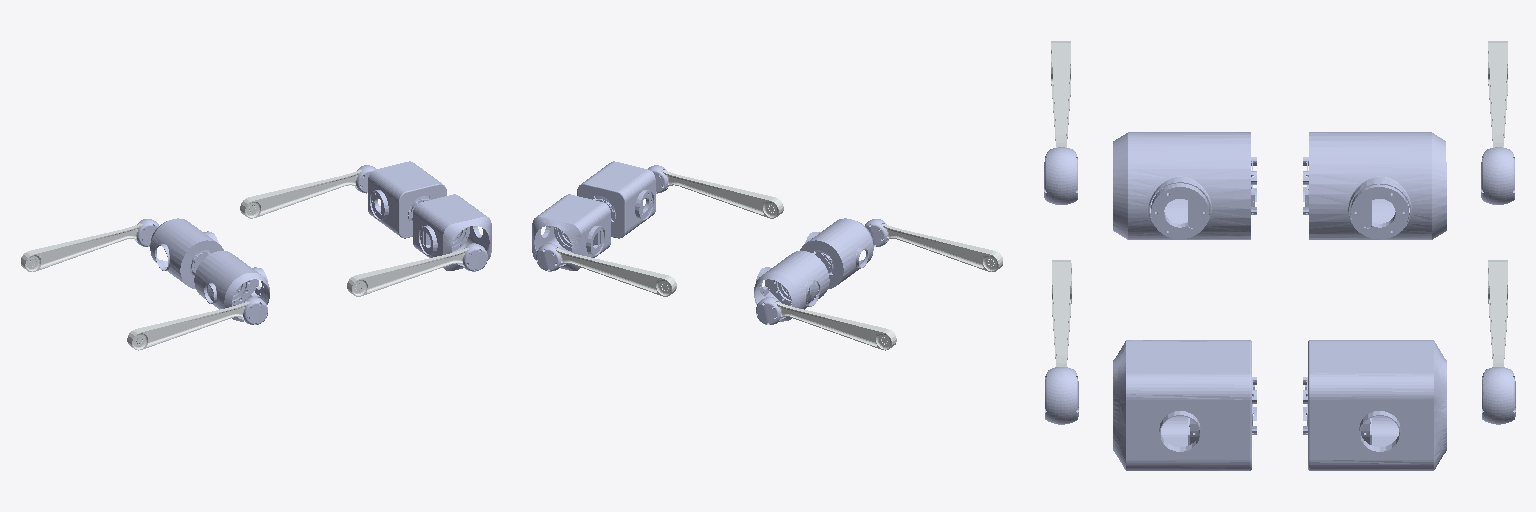
URDF robot description (stoch3):
<?xml version="1.0" encoding="utf-8"?>
<!-- This URDF was automatically created by SolidWorks to URDF Exporter! Originally created by [author] ([email redacted]) 
     Commit Version: 1.5.1-0-g916b5db  Build Version: 1.5.7152.31018
     For more information, please see http://wiki.ros.org/sw_urdf_exporter -->
<robot
  name="stoch3">
  <link
    name="base_link">
    <inertial>
      <origin
        xyz="-0.10238 -1.8464E-05 0.0026538"
        rpy="0 0 0" />
      <mass
        value="7.302" />
      <inertia
        ixx="0.0090197"
        ixy="2.2679E-06"
        ixz="6.4897E-05"
        iyy="0.0094033"
        iyz="-2.1628E-08"
        izz="0.01573" />
    </inertial>
    <visual>
      <origin
        xyz="0 0 0"
        rpy="0 0 0" />
      <geometry>
        <mesh
          filename="package://stoch3/meshes/base_link.STL" />
      </geometry>
      <material
        name="">
        <color
          rgba="0.75294 0.75294 0.75294 1" />
      </material>
    </visual>
    <collision>
      <origin
        xyz="0 0 0"
        rpy="0 0 0" />
      <geometry>
        <mesh
          filename="package://stoch3/meshes/base_link.STL" />
      </geometry>
    </collision>
  </link>
  <link
    name="fl_abd_link">
    <inertial>
      <origin
        xyz="-0.036118 -2.6003E-07 0.070269"
        rpy="0 0 0" />
      <mass
        value="0.978" />
      <inertia
        ixx="0.00059328"
        ixy="5.8815E-09"
        ixz="-6.723E-07"
        iyy="0.00046214"
        iyz="3.3247E-08"
        izz="0.00045941" />
    </inertial>
    <visual>
      <origin
        xyz="0 0 0"
        rpy="0 0 0" />
      <geometry>
        <mesh
          filename="package://stoch3/meshes/fl_abd_link.STL" />
      </geometry>
      <material
        name="">
        <color
          rgba="0.79216 0.81961 0.93333 1" />
      </material>
    </visual>
    <collision>
      <origin
        xyz="0 0 0"
        rpy="0 0 0" />
      <geometry>
        <mesh
          filename="package://stoch3/meshes/fl_abd_link.STL" />
      </geometry>
    </collision>
  </link>
  <joint
    name="fl_abd_joint"
    type="revolute">
    <origin
      xyz="0.18598 0.10004 -0.0005"
      rpy="1.5708 0 1.571" />
    <parent
      link="base_link" />
    <child
      link="fl_abd_link" />
    <axis
      xyz="0 0 -1" />
    <limit
      lower="-3.5708"
      upper="3.5708"
      effort="100"
      velocity="100" />
  </joint>
  <link
    name="fl_upper_leg_link">
    <inertial>
      <origin
        xyz="0.072527 1.3632E-05 0.076425"
        rpy="0 0 0" />
      <mass
        value="1.547" />
      <inertia
        ixx="0.00031538"
        ixy="4.8938E-07"
        ixz="4.0486E-06"
        iyy="0.0028703"
        iyz="6.4786E-11"
        izz="0.0031011" />
    </inertial>
    <visual>
      <origin
        xyz="0 0 0"
        rpy="0 0 0" />
      <geometry>
        <mesh
          filename="package://stoch3/meshes/fl_upper_leg_link.STL" />
      </geometry>
      <material
        name="">
        <color
          rgba="0.79216 0.81961 0.93333 1" />
      </material>
    </visual>
    <collision>
      <origin
        xyz="0 0 0"
        rpy="0 0 0" />
      <geometry>
        <mesh
          filename="package://stoch3/meshes/fl_upper_leg_link.STL" />
      </geometry>
    </collision>
  </link>
  <joint
    name="fl_hip_joint"
    type="revolute">
    <origin
      xyz="-0.01975 0 0.074"
      rpy="0 1.5708 0" />
    <parent
      link="fl_abd_link" />
    <child
      link="fl_upper_leg_link" />
    <axis
      xyz="0 0 -1" />
    <limit
      lower="-1.5708"
      upper="6.2832"
      effort="100"
      velocity="100" />
  </joint>
  <link
    name="fl_lower_leg_link">
    <inertial>
      <origin
        xyz="0.086252 -0.0035444 5.8283E-07"
        rpy="0 0 0" />
      <mass
        value="0.18" />
      <inertia
        ixx="2.0675E-05"
        ixy="3.9572E-05"
        ixz="-2.4321E-09"
        iyy="0.0010716"
        iyz="8.8848E-10"
        izz="0.0010886" />
    </inertial>
    <visual>
      <origin
        xyz="0 0 0"
        rpy="0 0 0" />
      <geometry>
        <mesh
          filename="package://stoch3/meshes/fl_lower_leg_link.STL" />
      </geometry>
      <material
        name="">
        <color
          rgba="0.89804 0.91765 0.92941 1" />
      </material>
    </visual>
    <collision>
      <origin
        xyz="0 0 0"
        rpy="0 0 0" />
      <geometry>
        <mesh
          filename="package://stoch3/meshes/fl_lower_leg_link.STL" />
      </geometry>
    </collision>
  </link>
  <joint
    name="fl_knee_joint"
    type="revolute">
    <origin
      xyz="0.297 0 0.1385"
      rpy="0 0 3.1416" />
    <parent
      link="fl_upper_leg_link" />
    <child
      link="fl_lower_leg_link" />
    <axis
      xyz="0 0 1" />
    <limit
      lower="-6.28"
      upper="6.28"
      effort="100"
      velocity="100" />
  </joint>
  <link
    name="fl_foot_link">
    <inertial>
      <origin
        xyz="0.0031638 -3.2732E-12 -0.00086153"
        rpy="0 0 0" />
      <mass
        value="0.02" />
      <inertia
        ixx="1.2618E-05"
        ixy="-3.347E-13"
        ixz="-5.684E-07"
        iyy="2.1257E-05"
        iyz="-1.222E-12"
        izz="1.0686E-05" />
    </inertial>
    <visual>
      <origin
        xyz="0 0 0"
        rpy="0 0 0" />
      <geometry>
        <mesh
          filename="package://stoch3/meshes/fl_foot_link.STL" />
      </geometry>
      <material
        name="">
        <color
          rgba="0.79216 0.81961 0.93333 1" />
      </material>
    </visual>
    <collision>
      <origin
        xyz="0 0 0"
        rpy="0 0 0" />
      <geometry>
        <mesh
          filename="package://stoch3/meshes/fl_foot_link.STL" />
      </geometry>
    </collision>
  </link>
  <joint
    name="fl_ankel_joint"
    type="fixed">
    <origin
      xyz="0.27479 -0.00065295 0"
      rpy="1.5708 0 0" />
    <parent
      link="fl_lower_leg_link" />
    <child
      link="fl_foot_link" />
    <axis
      xyz="0 0 0" />
  </joint>
  <link
    name="fr_abd_link">
    <inertial>
      <origin
        xyz="0.07027 0.036118 -2.9553E-07"
        rpy="0 0 0" />
      <mass
        value="0.978" />
      <inertia
        ixx="0.00045941"
        ixy="6.965E-07"
        ixz="-3.3418E-08"
        iyy="0.00059328"
        iyz="-5.8767E-09"
        izz="0.00046214" />
    </inertial>
    <visual>
      <origin
        xyz="0 0 0"
        rpy="0 0 0" />
      <geometry>
        <mesh
          filename="package://stoch3/meshes/fr_abd_link.STL" />
      </geometry>
      <material
        name="">
        <color
          rgba="0.79216 0.81961 0.93333 1" />
      </material>
    </visual>
    <collision>
      <origin
        xyz="0 0 0"
        rpy="0 0 0" />
      <geometry>
        <mesh
          filename="package://stoch3/meshes/fr_abd_link.STL" />
      </geometry>
    </collision>
  </link>
  <joint
    name="fr_abd_joint"
    type="revolute">
    <origin
      xyz="0.18602 -0.099961 -0.0005"
      rpy="0 0 0.00021134" />
    <parent
      link="base_link" />
    <child
      link="fr_abd_link" />
    <axis
      xyz="1 0 0" />
    <limit
      lower="-3.5708"
      upper="3.5708"
      effort="100"
      velocity="100" />
  </joint>
  <link
    name="fr_upper_leg_link">
    <inertial>
      <origin
        xyz="-0.072527 -0.076425 -1.3632E-05"
        rpy="0 0 0" />
      <mass
        value="1.547" />
      <inertia
        ixx="0.00031538"
        ixy="4.0486E-06"
        ixz="4.8939E-07"
        iyy="0.0031011"
        iyz="6.4776E-11"
        izz="0.0028703" />
    </inertial>
    <visual>
      <origin
        xyz="0 0 0"
        rpy="0 0 0" />
      <geometry>
        <mesh
          filename="package://stoch3/meshes/fr_upper_leg_link.STL" />
      </geometry>
      <material
        name="">
        <color
          rgba="0.79216 0.81961 0.93333 1" />
      </material>
    </visual>
    <collision>
      <origin
        xyz="0 0 0"
        rpy="0 0 0" />
      <geometry>
        <mesh
          filename="package://stoch3/meshes/fr_upper_leg_link.STL" />
      </geometry>
    </collision>
  </link>
  <joint
    name="fr_hip_joint"
    type="revolute">
    <origin
      xyz="0.074 0.01975 0"
      rpy="0 0 0" />
    <parent
      link="fr_abd_link" />
    <child
      link="fr_upper_leg_link" />
    <axis
      xyz="0 1 0" />
    <limit
      lower="-1.5708"
      upper="6.2832"
      effort="100"
      velocity="100" />
  </joint>
  <link
    name="fr_lower_leg_link">
    <inertial>
      <origin
        xyz="0.086252 5.8285E-07 0.0035444"
        rpy="0 0 0" />
      <mass
        value="0.18" />
      <inertia
        ixx="2.0675E-05"
        ixy="-2.4323E-09"
        ixz="-3.9572E-05"
        iyy="0.0010886"
        iyz="-8.8856E-10"
        izz="0.0010716" />
    </inertial>
    <visual>
      <origin
        xyz="0 0 0"
        rpy="0 0 0" />
      <geometry>
        <mesh
          filename="package://stoch3/meshes/fr_lower_leg_link.STL" />
      </geometry>
      <material
        name="">
        <color
          rgba="0.89804 0.91765 0.92941 1" />
      </material>
    </visual>
    <collision>
      <origin
        xyz="0 0 0"
        rpy="0 0 0" />
      <geometry>
        <mesh
          filename="package://stoch3/meshes/fr_lower_leg_link.STL" />
      </geometry>
    </collision>
  </link>
  <joint
    name="fr_knee_joint"
    type="revolute">
    <origin
      xyz="-0.297 -0.1385 0"
      rpy="0 0 0" />
    <parent
      link="fr_upper_leg_link" />
    <child
      link="fr_lower_leg_link" />
    <axis
      xyz="0 -1 0" />
    <limit
      lower="-6.28"
      upper="6.28"
      effort="100"
      velocity="100" />
  </joint>
  <link
    name="fr_foot_link">
    <inertial>
      <origin
        xyz="0.0031638 -3.2735E-12 -0.00086153"
        rpy="0 0 0" />
      <mass
        value="0.02" />
      <inertia
        ixx="1.2618E-05"
        ixy="-3.347E-13"
        ixz="-5.684E-07"
        iyy="2.1257E-05"
        iyz="-1.222E-12"
        izz="1.0686E-05" />
    </inertial>
    <visual>
      <origin
        xyz="0 0 0"
        rpy="0 0 0" />
      <geometry>
        <mesh
          filename="package://stoch3/meshes/fr_foot_link.STL" />
      </geometry>
      <material
        name="">
        <color
          rgba="0.79216 0.81961 0.93333 1" />
      </material>
    </visual>
    <collision>
      <origin
        xyz="0 0 0"
        rpy="0 0 0" />
      <geometry>
        <mesh
          filename="package://stoch3/meshes/fr_foot_link.STL" />
      </geometry>
    </collision>
  </link>
  <joint
    name="fr_ankel_joint"
    type="fixed">
    <origin
      xyz="0.27479 0 0.00065295"
      rpy="0 0 0" />
    <parent
      link="fr_lower_leg_link" />
    <child
      link="fr_foot_link" />
    <axis
      xyz="0 0 0" />
  </joint>
  <link
    name="bl_abd_link">
    <inertial>
      <origin
        xyz="-0.06995 -0.037322 -1.8681E-06"
        rpy="0 0 0" />
      <mass
        value="0.978" />
      <inertia
        ixx="0.00039025"
        ixy="5.9364E-08"
        ixz="1.1626E-07"
        iyy="0.00050148"
        iyz="5.3635E-09"
        izz="0.00037524" />
    </inertial>
    <visual>
      <origin
        xyz="0 0 0"
        rpy="0 0 0" />
      <geometry>
        <mesh
          filename="package://stoch3/meshes/bl_abd_link.STL" />
      </geometry>
      <material
        name="">
        <color
          rgba="0.79216 0.81961 0.93333 1" />
      </material>
    </visual>
    <collision>
      <origin
        xyz="0 0 0"
        rpy="0 0 0" />
      <geometry>
        <mesh
          filename="package://stoch3/meshes/bl_abd_link.STL" />
      </geometry>
    </collision>
  </link>
  <joint
    name="bl_abd_joint"
    type="revolute">
    <origin
      xyz="-0.18602 0.099961 -0.0005"
      rpy="0 0 0.00021134" />
    <parent
      link="base_link" />
    <child
      link="bl_abd_link" />
    <axis
      xyz="-1 0 0" />
    <limit
      lower="-3.5708"
      upper="3.5708"
      effort="100"
      velocity="100" />
  </joint>
  <link
    name="bl_upper_leg_link">
    <inertial>
      <origin
        xyz="-0.072527 0.076425 1.3632E-05"
        rpy="0 0 0" />
      <mass
        value="1.547" />
      <inertia
        ixx="0.00031538"
        ixy="-4.0486E-06"
        ixz="-4.8938E-07"
        iyy="0.0031011"
        iyz="6.4786E-11"
        izz="0.0028703" />
    </inertial>
    <visual>
      <origin
        xyz="0 0 0"
        rpy="0 0 0" />
      <geometry>
        <mesh
          filename="package://stoch3/meshes/bl_upper_leg_link.STL" />
      </geometry>
      <material
        name="">
        <color
          rgba="0.79216 0.81961 0.93333 1" />
      </material>
    </visual>
    <collision>
      <origin
        xyz="0 0 0"
        rpy="0 0 0" />
      <geometry>
        <mesh
          filename="package://stoch3/meshes/bl_upper_leg_link.STL" />
      </geometry>
    </collision>
  </link>
  <joint
    name="bl_hip_joint"
    type="revolute">
    <origin
      xyz="-0.074 -0.01975 0"
      rpy="0 0 0" />
    <parent
      link="bl_abd_link" />
    <child
      link="bl_upper_leg_link" />
    <axis
      xyz="0 -1 0" />
    <limit
      lower="-1.5708"
      upper="6.2832"
      effort="100"
      velocity="100" />
  </joint>
  <link
    name="bl_lower_leg_link">
    <inertial>
      <origin
        xyz="0.086252 5.8285E-07 0.0035444"
        rpy="0 0 0" />
      <mass
        value="0.13457" />
      <inertia
        ixx="2.0675E-05"
        ixy="-2.4323E-09"
        ixz="-3.9572E-05"
        iyy="0.0010886"
        iyz="-8.8856E-10"
        izz="0.0010716" />
    </inertial>
    <visual>
      <origin
        xyz="0 0 0"
        rpy="0 0 0" />
      <geometry>
        <mesh
          filename="package://stoch3/meshes/bl_lower_leg_link.STL" />
      </geometry>
      <material
        name="">
        <color
          rgba="0.89804 0.91765 0.92941 1" />
      </material>
    </visual>
    <collision>
      <origin
        xyz="0 0 0"
        rpy="0 0 0" />
      <geometry>
        <mesh
          filename="package://stoch3/meshes/bl_lower_leg_link.STL" />
      </geometry>
    </collision>
  </link>
  <joint
    name="bl_knee_joint"
    type="revolute">
    <origin
      xyz="-0.297 0.1385 0"
      rpy="0 0 0" />
    <parent
      link="bl_upper_leg_link" />
    <child
      link="bl_lower_leg_link" />
    <axis
      xyz="0 1 0" />
    <limit
      lower="-6.28"
      upper="6.28"
      effort="100"
      velocity="100" />
  </joint>
  <link
    name="bl_foot_link">
    <inertial>
      <origin
        xyz="0.0031638 -3.2733E-12 -0.00086153"
        rpy="0 0 0" />
      <mass
        value="0.02" />
      <inertia
        ixx="1.2618E-05"
        ixy="-3.347E-13"
        ixz="-5.684E-07"
        iyy="2.1257E-05"
        iyz="-1.222E-12"
        izz="1.0686E-05" />
    </inertial>
    <visual>
      <origin
        xyz="0 0 0"
        rpy="0 0 0" />
      <geometry>
        <mesh
          filename="package://stoch3/meshes/bl_foot_link.STL" />
      </geometry>
      <material
        name="">
        <color
          rgba="0.79216 0.81961 0.93333 1" />
      </material>
    </visual>
    <collision>
      <origin
        xyz="0 0 0"
        rpy="0 0 0" />
      <geometry>
        <mesh
          filename="package://stoch3/meshes/bl_foot_link.STL" />
      </geometry>
    </collision>
  </link>
  <joint
    name="bl_ankel_joint"
    type="fixed">
    <origin
      xyz="0.27479 0 0.00065295"
      rpy="0 0 0" />
    <parent
      link="bl_lower_leg_link" />
    <child
      link="bl_foot_link" />
    <axis
      xyz="0 0 0" />
  </joint>
  <link
    name="br_abd_link">
    <inertial>
      <origin
        xyz="-0.070173 0.037288 -1.5868E-07"
        rpy="0 0 0" />
      <mass
        value="0.978" />
      <inertia
        ixx="0.00038996"
        ixy="-9.0848E-07"
        ixz="-8.0338E-08"
        iyy="0.00050185"
        iyz="-1.0951E-09"
        izz="0.00037578" />
    </inertial>
    <visual>
      <origin
        xyz="0 0 0"
        rpy="0 0 0" />
      <geometry>
        <mesh
          filename="package://stoch3/meshes/br_abd_link.STL" />
      </geometry>
      <material
        name="">
        <color
          rgba="0.79216 0.81961 0.93333 1" />
      </material>
    </visual>
    <collision>
      <origin
        xyz="0 0 0"
        rpy="0 0 0" />
      <geometry>
        <mesh
          filename="package://stoch3/meshes/br_abd_link.STL" />
      </geometry>
    </collision>
  </link>
  <joint
    name="br_abd_joint"
    type="revolute">
    <origin
      xyz="-0.18598 -0.10004 -0.0005"
      rpy="0 0 0.00021134" />
    <parent
      link="base_link" />
    <child
      link="br_abd_link" />
    <axis
      xyz="1 0 0" />
    <limit
      lower="-3.5708"
      upper="3.5708"
      effort="100"
      velocity="100" />
  </joint>
  <link
    name="br_upper_leg_link">
    <inertial>
      <origin
        xyz="-0.072527 -0.076425 -1.3632E-05"
        rpy="0 0 0" />
      <mass
        value="1.547" />
      <inertia
        ixx="0.00031538"
        ixy="4.0486E-06"
        ixz="4.8939E-07"
        iyy="0.0031011"
        iyz="6.4776E-11"
        izz="0.0028703" />
    </inertial>
    <visual>
      <origin
        xyz="0 0 0"
        rpy="0 0 0" />
      <geometry>
        <mesh
          filename="package://stoch3/meshes/br_upper_leg_link.STL" />
      </geometry>
      <material
        name="">
        <color
          rgba="0.79216 0.81961 0.93333 1" />
      </material>
    </visual>
    <collision>
      <origin
        xyz="0 0 0"
        rpy="0 0 0" />
      <geometry>
        <mesh
          filename="package://stoch3/meshes/br_upper_leg_link.STL" />
      </geometry>
    </collision>
  </link>
  <joint
    name="br_hip_joint"
    type="revolute">
    <origin
      xyz="-0.074 0.01975 0"
      rpy="0 0 0" />
    <parent
      link="br_abd_link" />
    <child
      link="br_upper_leg_link" />
    <axis
      xyz="0 1 0" />
    <limit
      lower="-1.5708"
      upper="6.2832"
      effort="100"
      velocity="100" />
  </joint>
  <link
    name="br_lower_leg_link">
    <inertial>
      <origin
        xyz="0.086252 5.8285E-07 0.0035444"
        rpy="0 0 0" />
      <mass
        value="0.18" />
      <inertia
        ixx="2.0675E-05"
        ixy="-2.4323E-09"
        ixz="-3.9572E-05"
        iyy="0.0010886"
        iyz="-8.8856E-10"
        izz="0.0010716" />
    </inertial>
    <visual>
      <origin
        xyz="0 0 0"
        rpy="0 0 0" />
      <geometry>
        <mesh
          filename="package://stoch3/meshes/br_lower_leg_link.STL" />
      </geometry>
      <material
        name="">
        <color
          rgba="0.89804 0.91765 0.92941 1" />
      </material>
    </visual>
    <collision>
      <origin
        xyz="0 0 0"
        rpy="0 0 0" />
      <geometry>
        <mesh
          filename="package://stoch3/meshes/br_lower_leg_link.STL" />
      </geometry>
    </collision>
  </link>
  <joint
    name="br_knee_joint"
    type="revolute">
    <origin
      xyz="-0.297 -0.1385 0"
      rpy="0 0 0" />
    <parent
      link="br_upper_leg_link" />
    <child
      link="br_lower_leg_link" />
    <axis
      xyz="0 -1 0" />
    <limit
      lower="-6.28"
      upper="6.28"
      effort="100"
      velocity="100" />
  </joint>
  <link
    name="br_foot_link">
    <inertial>
      <origin
        xyz="0.0031638 -3.2731E-12 -0.00086153"
        rpy="0 0 0" />
      <mass
        value="0.02" />
      <inertia
        ixx="1.2618E-05"
        ixy="-3.347E-13"
        ixz="-5.684E-07"
        iyy="2.1257E-05"
        iyz="-1.222E-12"
        izz="1.0686E-05" />
    </inertial>
    <visual>
      <origin
        xyz="0 0 0"
        rpy="0 0 0" />
      <geometry>
        <mesh
          filename="package://stoch3/meshes/br_foot_link.STL" />
      </geometry>
      <material
        name="">
        <color
          rgba="0.79216 0.81961 0.93333 1" />
      </material>
    </visual>
    <collision>
      <origin
        xyz="0 0 0"
        rpy="0 0 0" />
      <geometry>
        <mesh
          filename="package://stoch3/meshes/br_foot_link.STL" />
      </geometry>
    </collision>
  </link>
  <joint
    name="br_ankel_joint"
    type="fixed">
    <origin
      xyz="0.27479 0 0.00065295"
      rpy="0 0 0" />
    <parent
      link="br_lower_leg_link" />
    <child
      link="br_foot_link" />
    <axis
      xyz="0 0 0" />
  </joint>
</robot>

--- What the picture shows (computed from the rendered views, not written in the file) ---
3 views of the same robot in one strip: view 1: azimuth 30°, elevation 25°; view 2: azimuth 150°, elevation 25°; view 3: azimuth 270°, elevation 25° (orthographic).
Model stoch3 with 17 links and 16 joints (12 revolute, 4 fixed), rooted at base_link, posed every joint at zero.
Visible links, largest first — view 1: fr_abd_link, fl_abd_link, br_abd_link, bl_abd_link, fr_lower_leg_link, bl_lower_leg_link, fl_lower_leg_link, br_lower_leg_link, fr_foot_link, br_foot_link; view 2: fl_abd_link, fr_abd_link, bl_abd_link, br_abd_link, fl_lower_leg_link, fr_lower_leg_link, bl_lower_leg_link, br_lower_leg_link, fl_foot_link, bl_foot_link; view 3: fl_abd_link, fr_abd_link, br_abd_link, bl_abd_link, fl_lower_leg_link, fr_lower_leg_link, br_lower_leg_link, bl_lower_leg_link, br_foot_link, fr_foot_link, bl_foot_link, fl_foot_link.
Link boxes in pixels (x1,y1,x2,y2): fr_abd_link: [413, 194, 491, 270]; fl_abd_link: [368, 161, 446, 238]; br_abd_link: [194, 251, 269, 321]; bl_abd_link: [150, 218, 223, 288]; fr_lower_leg_link: [347, 248, 468, 296]; bl_lower_leg_link: [21, 224, 142, 271]; fl_lower_leg_link: [240, 170, 361, 218]; br_lower_leg_link: [127, 302, 249, 350]; fr_foot_link: [462, 243, 487, 271]; br_foot_link: [242, 297, 267, 324]; fl_abd_link: [532, 194, 610, 270]; fr_abd_link: [577, 161, 655, 238]; bl_abd_link: [754, 251, 829, 321]; br_abd_link: [800, 218, 873, 288]; fl_lower_leg_link: [555, 248, 676, 296]; fr_lower_leg_link: [661, 170, 783, 218]; bl_lower_leg_link: [774, 302, 896, 350]; br_lower_leg_link: [881, 224, 1002, 271]; fl_foot_link: [536, 243, 562, 271]; bl_foot_link: [756, 297, 781, 324]; fl_abd_link: [1303, 340, 1446, 470]; fr_abd_link: [1113, 340, 1256, 470]; br_abd_link: [1113, 132, 1256, 239]; bl_abd_link: [1303, 132, 1446, 239]; fl_lower_leg_link: [1488, 260, 1507, 366]; fr_lower_leg_link: [1052, 260, 1071, 366]; br_lower_leg_link: [1051, 41, 1070, 147]; bl_lower_leg_link: [1488, 41, 1507, 147]; br_foot_link: [1044, 147, 1077, 204]; fr_foot_link: [1045, 367, 1078, 424]; bl_foot_link: [1481, 147, 1514, 204]; fl_foot_link: [1482, 367, 1515, 424].
Bounding box of the posed robot: 0.9039 × 0.4716 × 0.1079 m (x, y, z).
Meshes: 17 distinct files referenced, 12 mesh visuals loaded (12 binary STL); not drawn: 5 (reference not matched to a file when rendering).